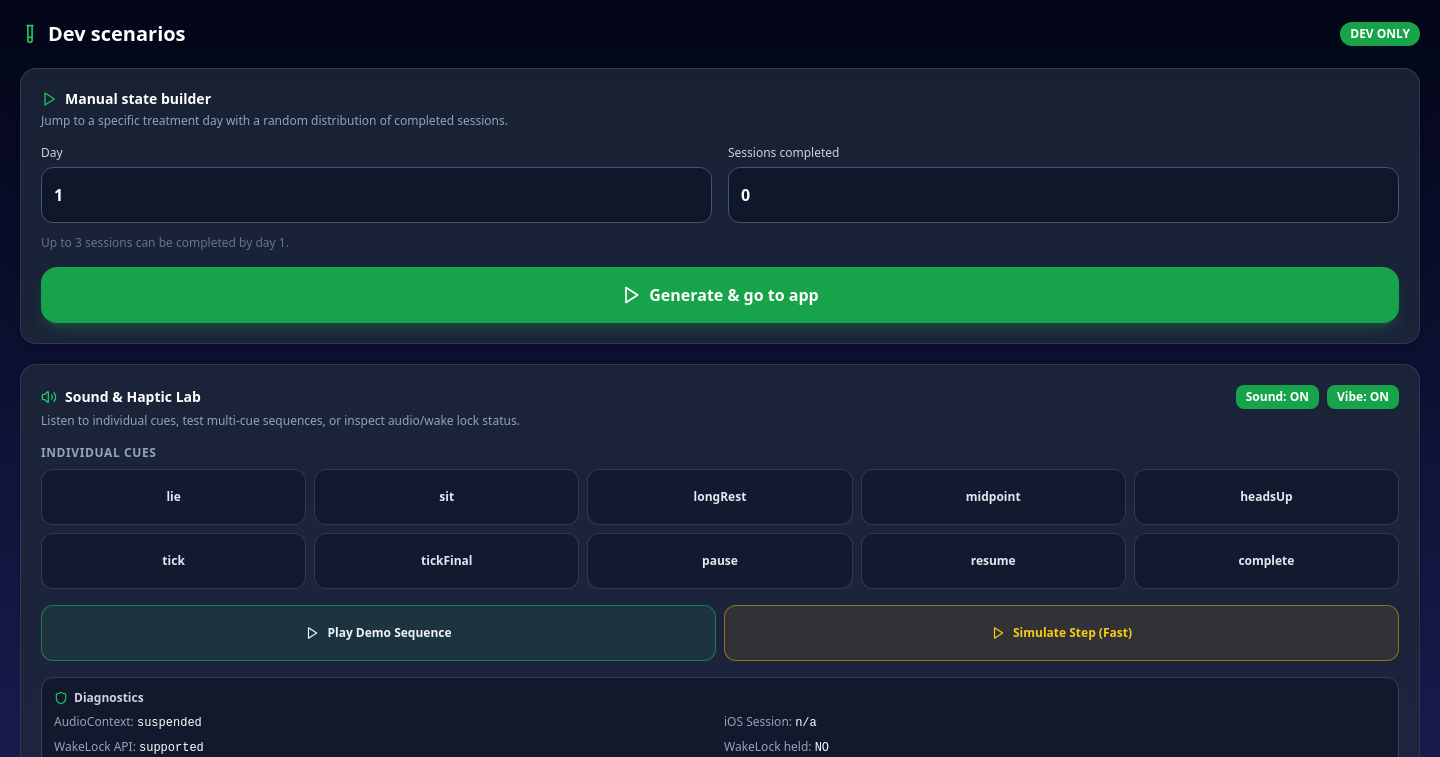
Test case: DevScenariosScreen › shows an error when requested sessions exceed the day maximum
Replace the text in the number field labelled "Day" with "2": (376, 195) [41,167,712,223]
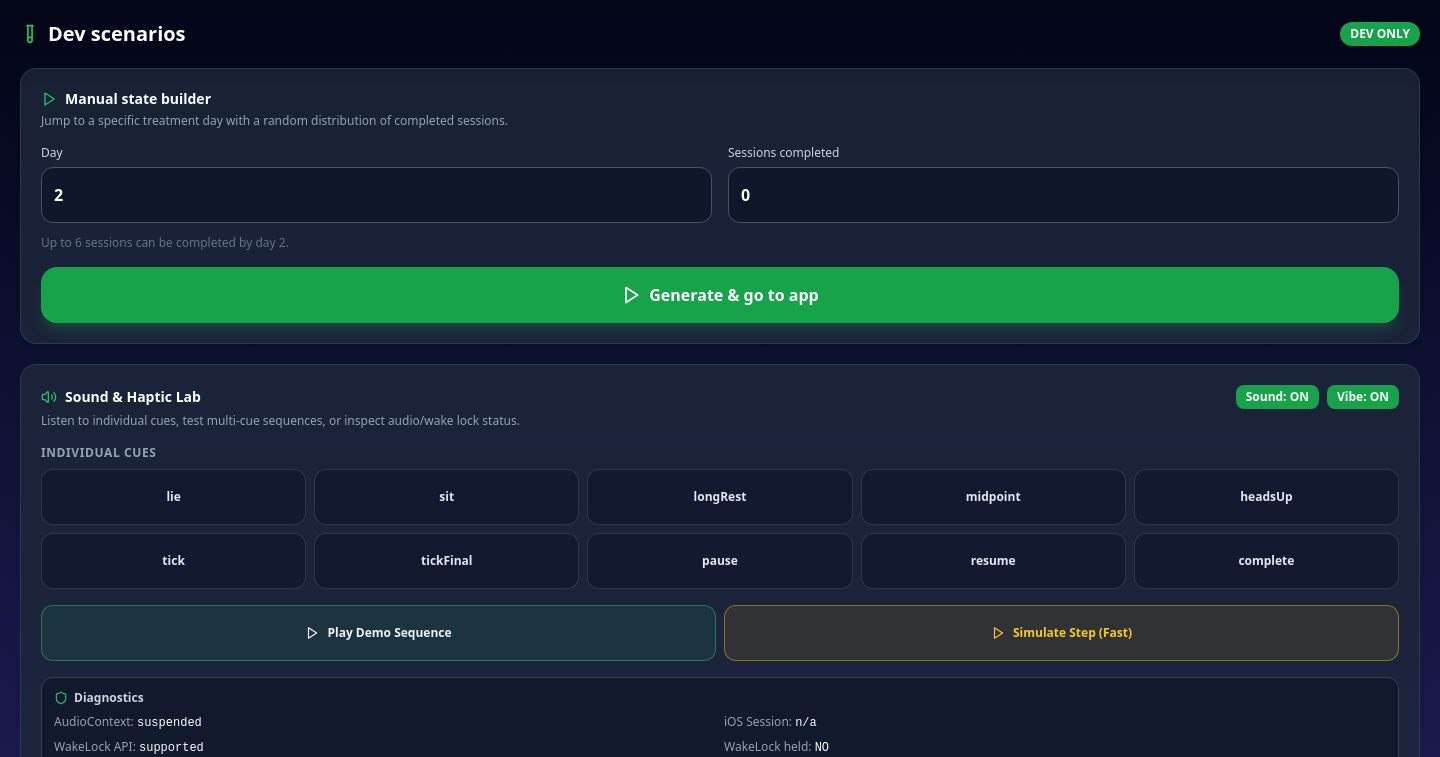
Replace the text in the number field labelled "Sessions completed" with "10": (1064, 195) [728,167,1399,223]
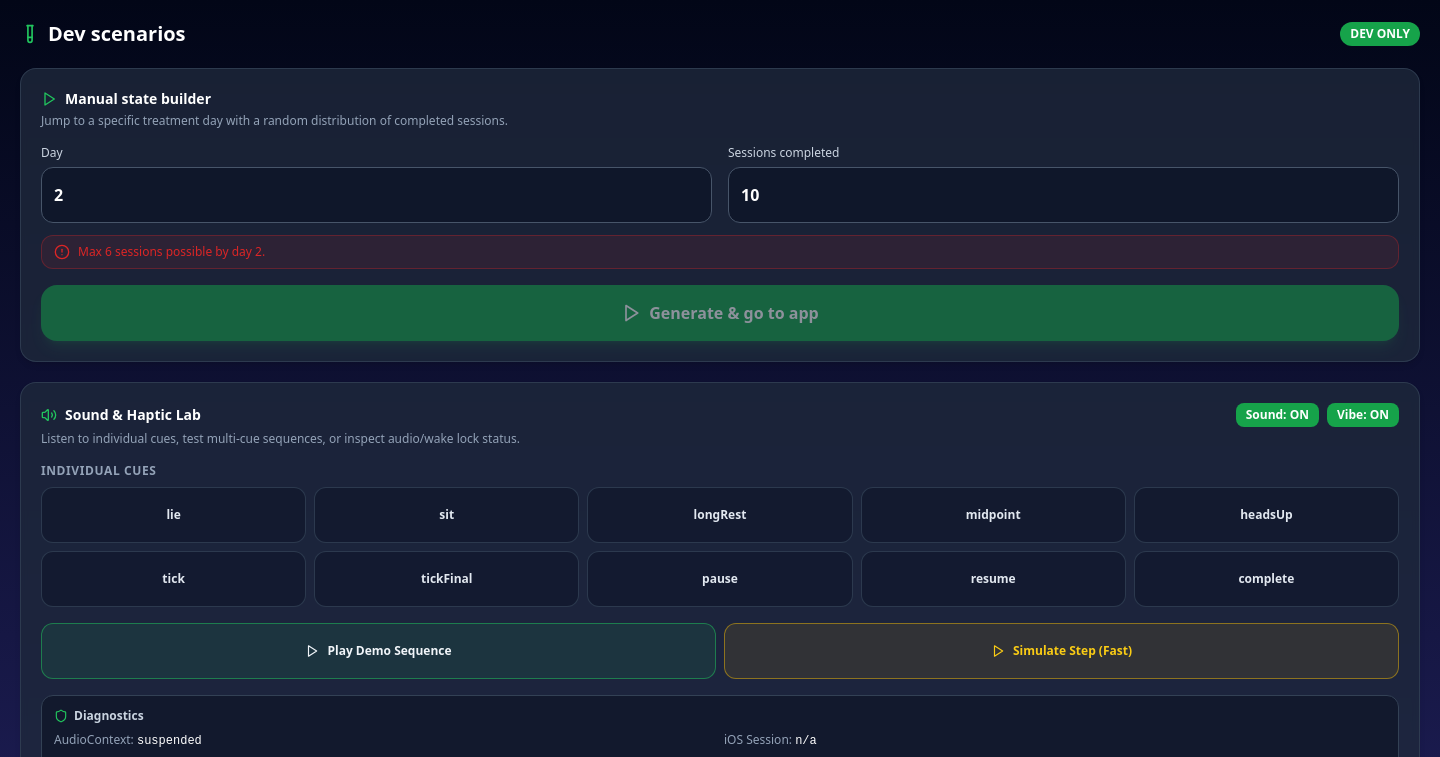
Check: the text "Max 6 sessions possible by day 2." is shown, box [78,244,265,260]
